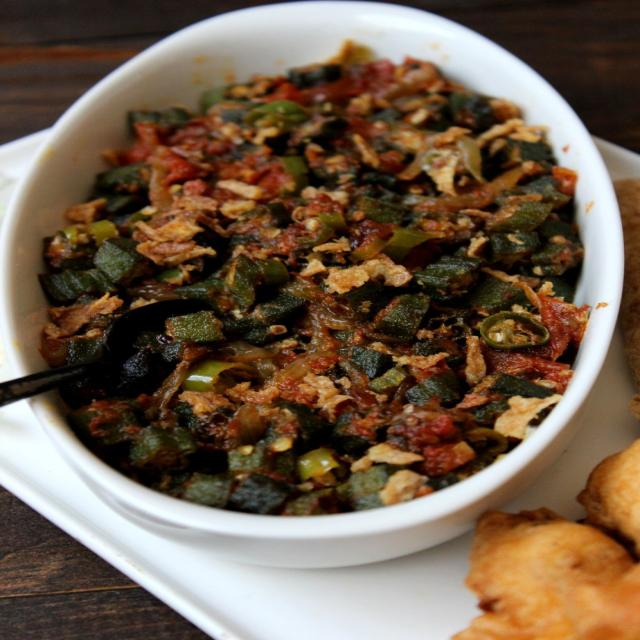Bhindi Masala: (36, 47, 581, 510)
